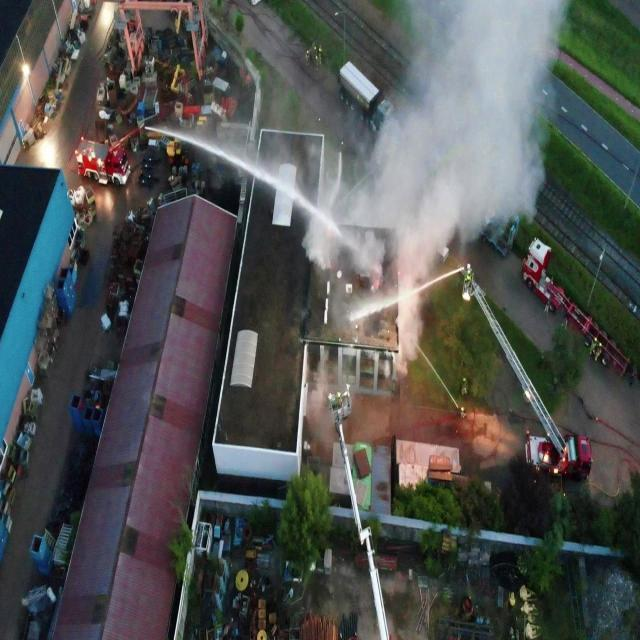Smoke: (301, 0, 572, 381), (304, 348, 356, 450)
